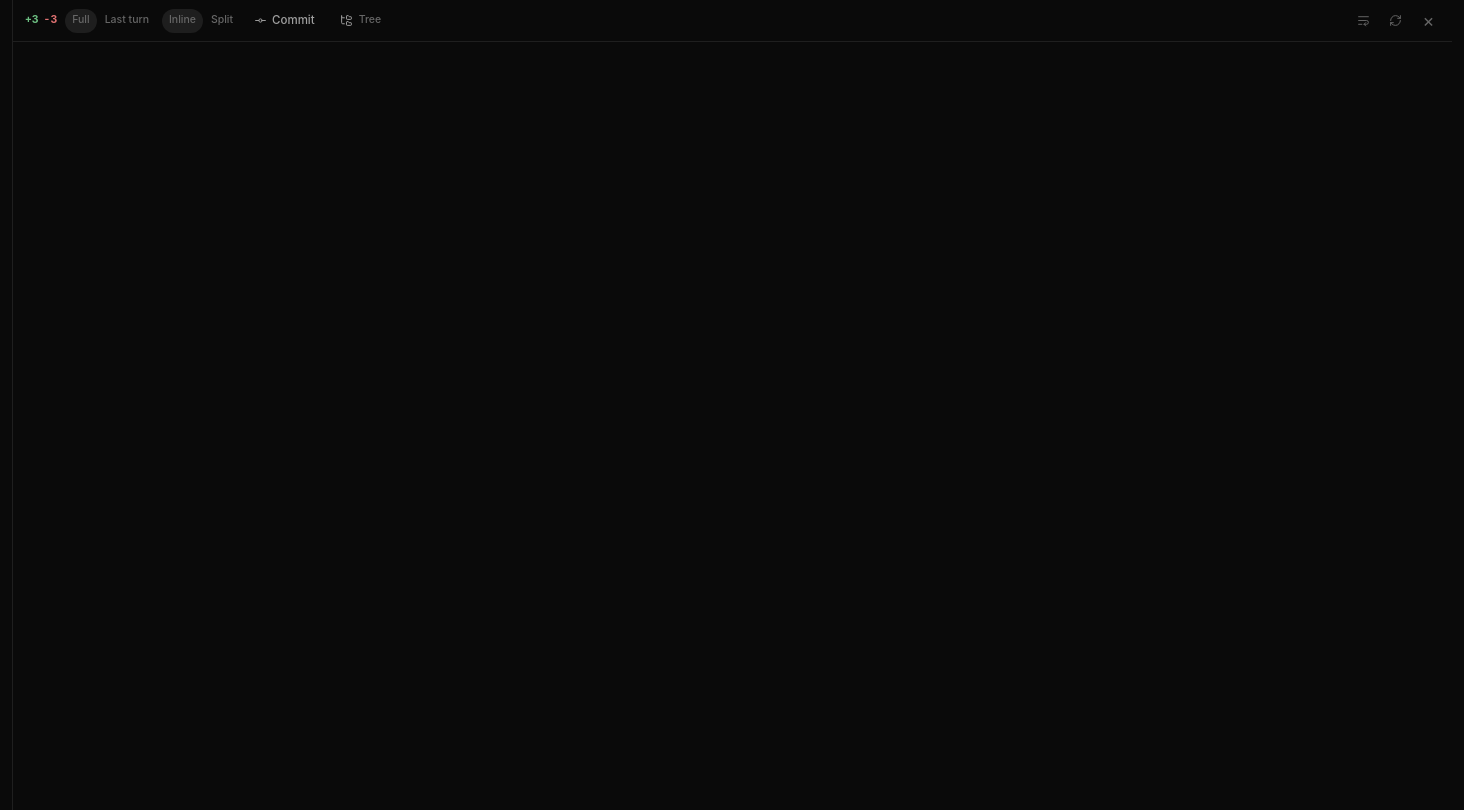
DiffReviewSidebar tree integration › keeps the diff controls intact with the tree rail open and hides the toggle when no files exist
What coordinates should you click on to do the following:
click the button with aria-label "show changed files tree"
I would click on:
 (360, 20)
Its box is [331,8,390,32].
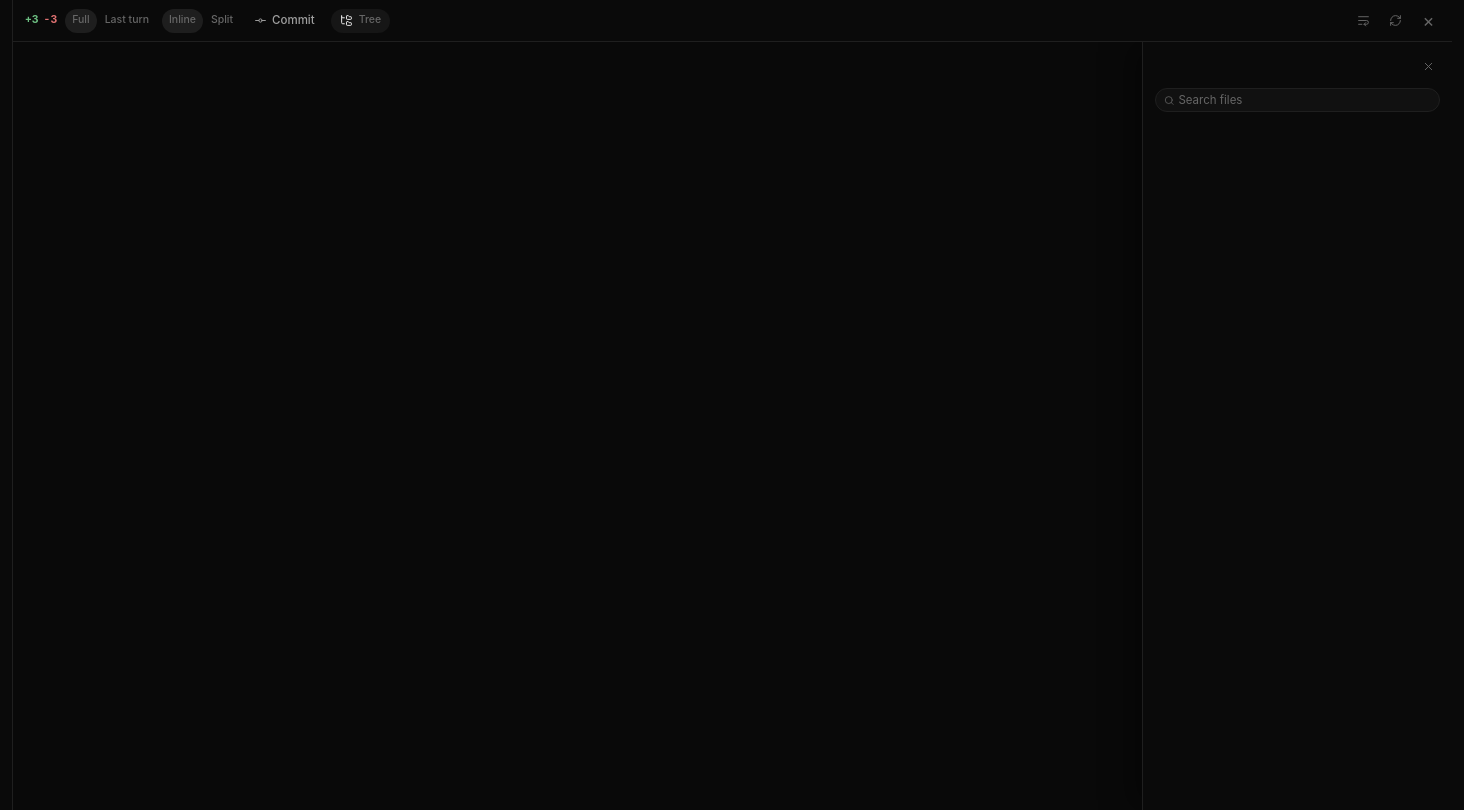
Expected: the element with class "diff-review-controls" is shown, [65,8,323,32]
Expected: the 3rd element with class "open" is shown, [1142,42,1452,809]
